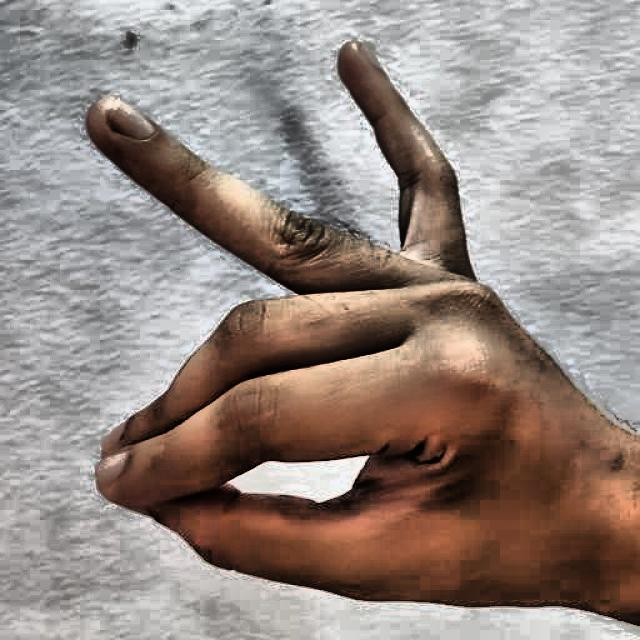Na: (52, 17, 584, 620)
